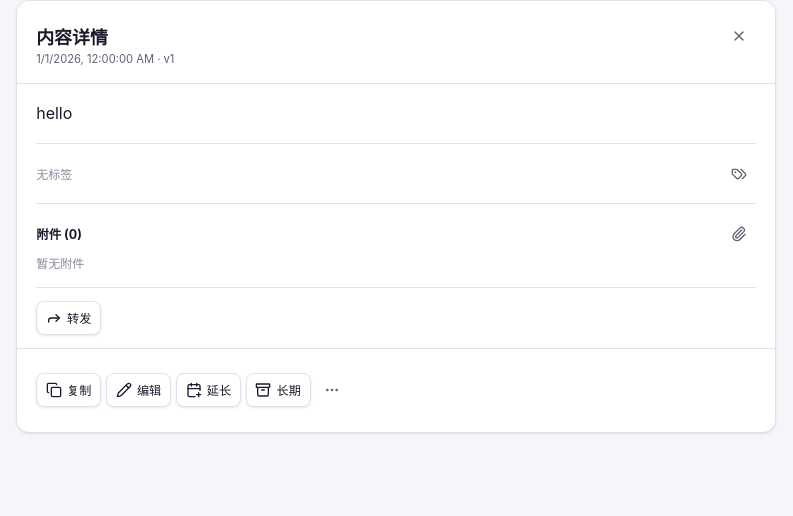
forward recipient selection › loads named users lazily, searches them, and forwards with the selected user ID
Click the button "转发".
click(69, 318)  # box [36, 301, 101, 335]
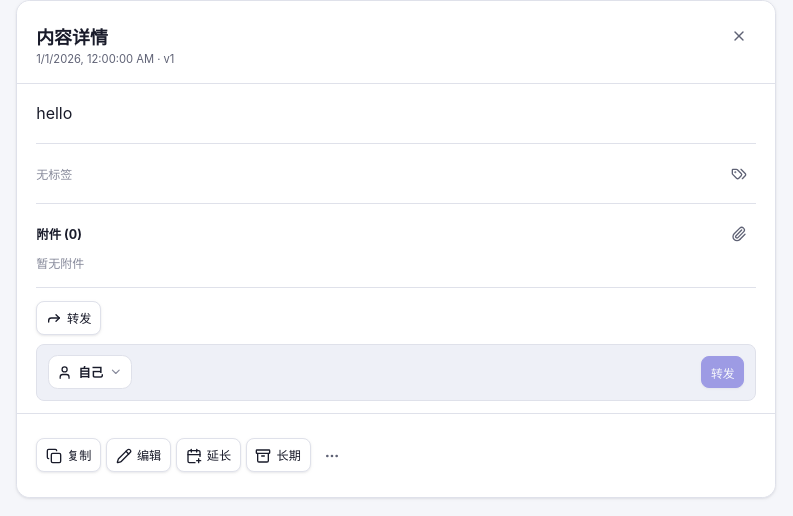
Result: the element with class "forward" is shown at [36, 344, 756, 401]
Opening the recipient picker is what starts the query.
Click the button with aria-label "接收人".
click(90, 372)  # box [48, 355, 132, 389]
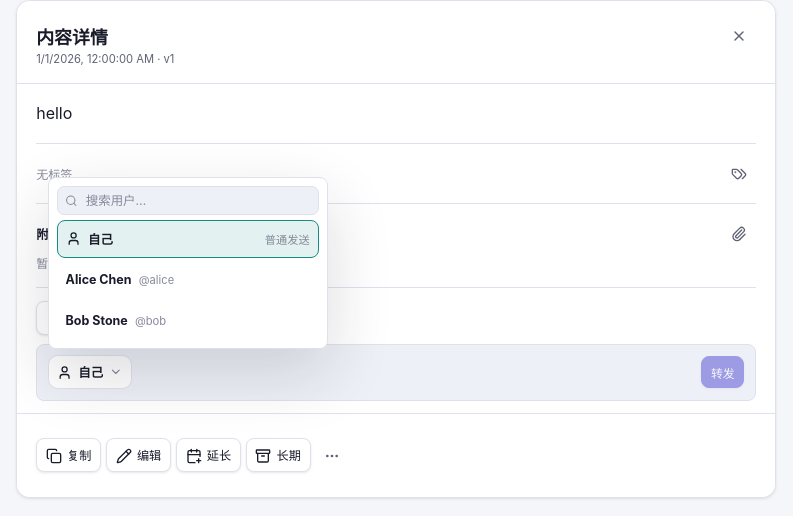
Result: the text "Alice Chen" is shown at [66, 272, 132, 287]
Result: the text "@bob" is shown at [135, 314, 166, 328]
Type "bob" into the search field with placeholder "搜索用户…".
click(197, 200); type("bob")  # box [84, 192, 310, 209]
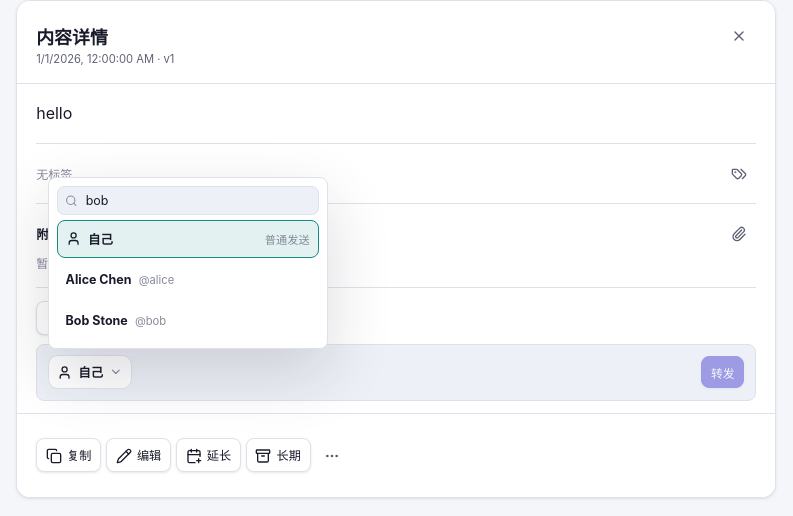
Click the option with aria-label "选择 Bob Stone @bob".
click(97, 321)  # box [57, 302, 319, 340]
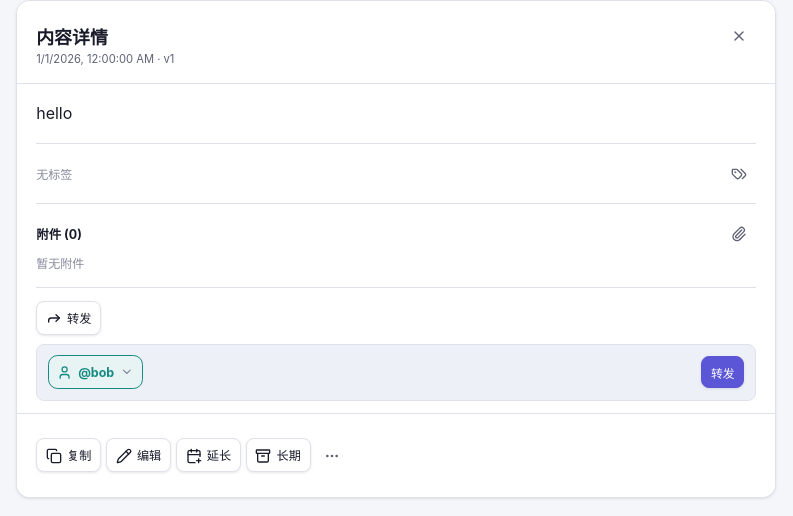
Result: the 2nd button "转发" is shown
Click the 2nd button "转发".
click(723, 372)  # box [701, 356, 744, 388]
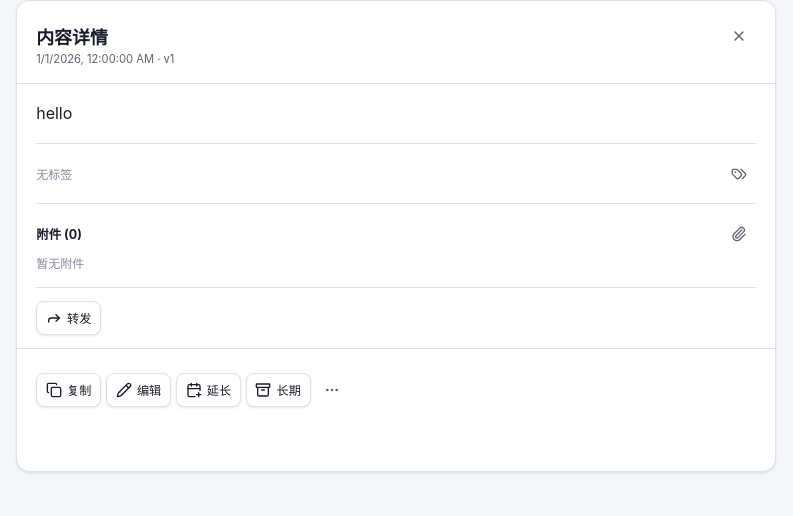
Result: the text "已转发" is shown at [36, 360, 73, 375]
